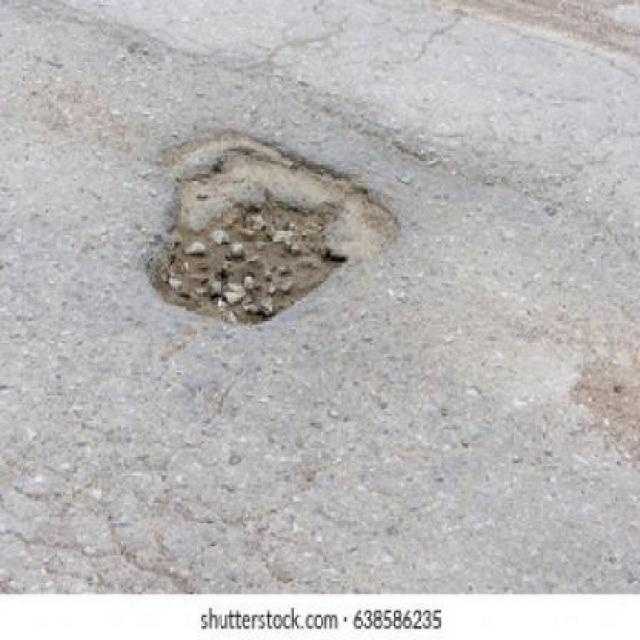Pothole: (138, 126, 405, 332)
